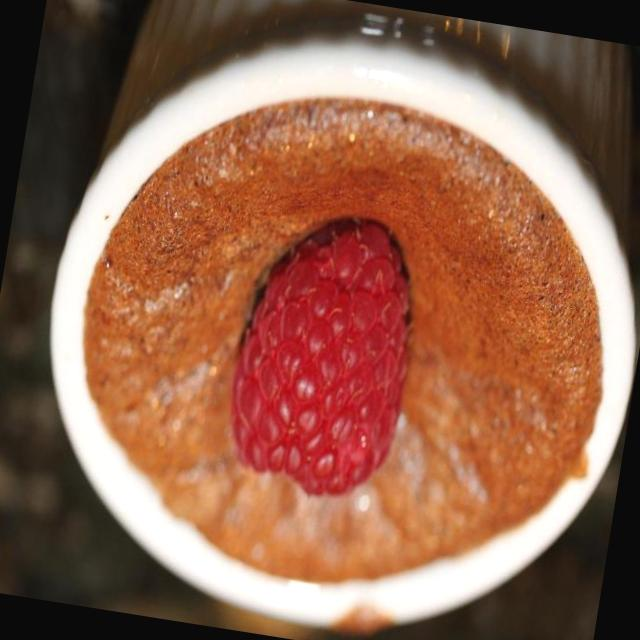Strawberry: (216, 205, 430, 509)
